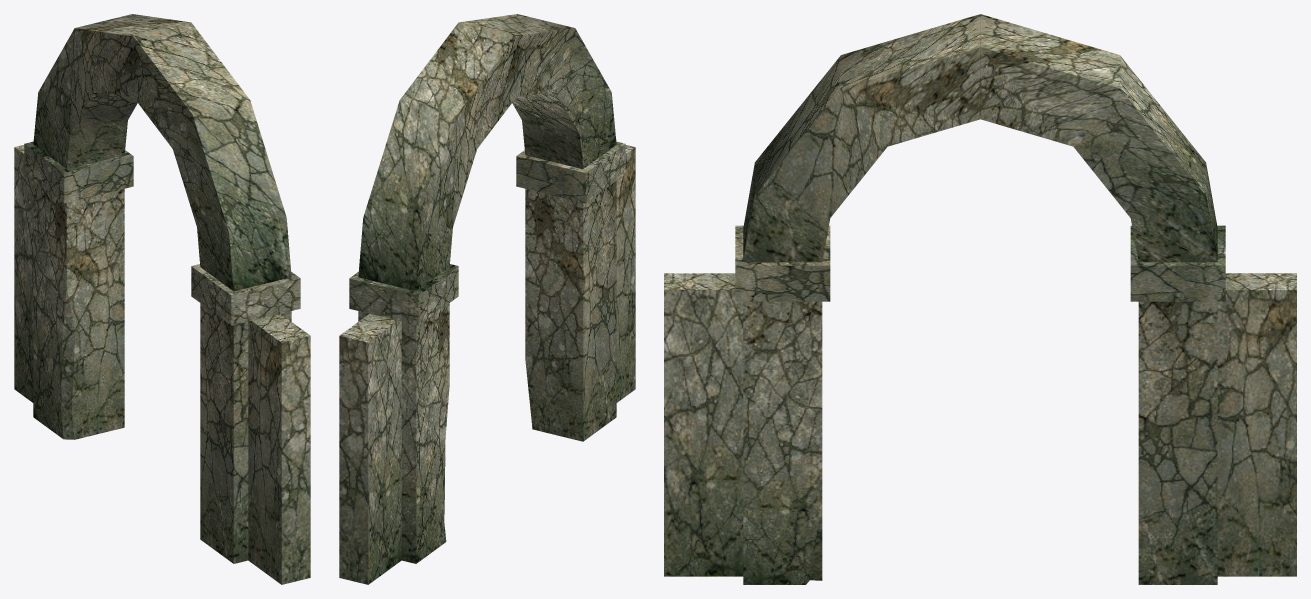
Rendered from thm_nboo_gungan_damaged_narrow_arch_s01_l1.fbx.
3 renders of one model, left to right at view 1: azimuth 30°, elevation 25°; view 2: azimuth 150°, elevation 25°; view 3: azimuth 270°, elevation 25°, orthographic. The views are drawn at different scales.
Parts seen in each view (by area): view 1: mesh_node; view 2: mesh_node; view 3: mesh_node.
Boxes of the visible parts, x1,y1,x2,y2 form: mesh_node: (14, 14, 310, 584); mesh_node: (339, 14, 635, 584); mesh_node: (664, 14, 1296, 584).
Bounding box in the file's own units: 1.2 × 7.5 × 8.
